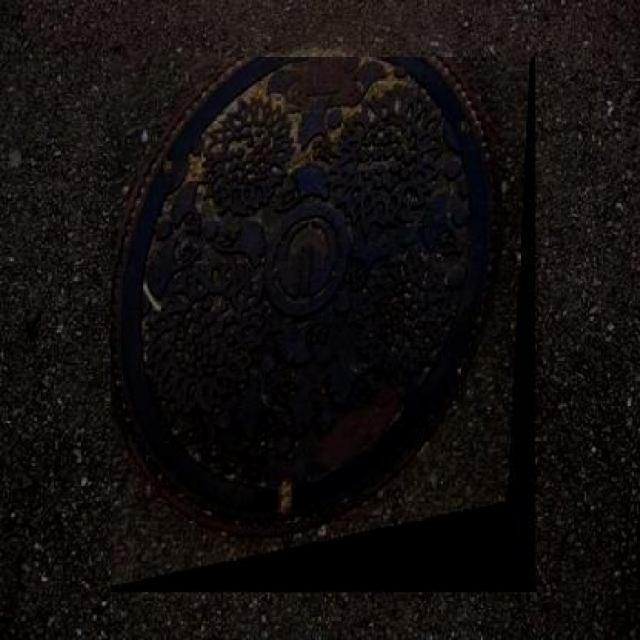Manhole: (110, 57, 536, 592)
